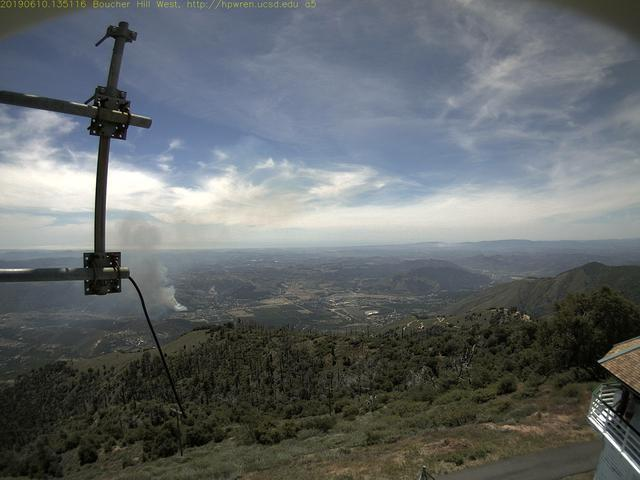smoke: (124, 215, 191, 314)
